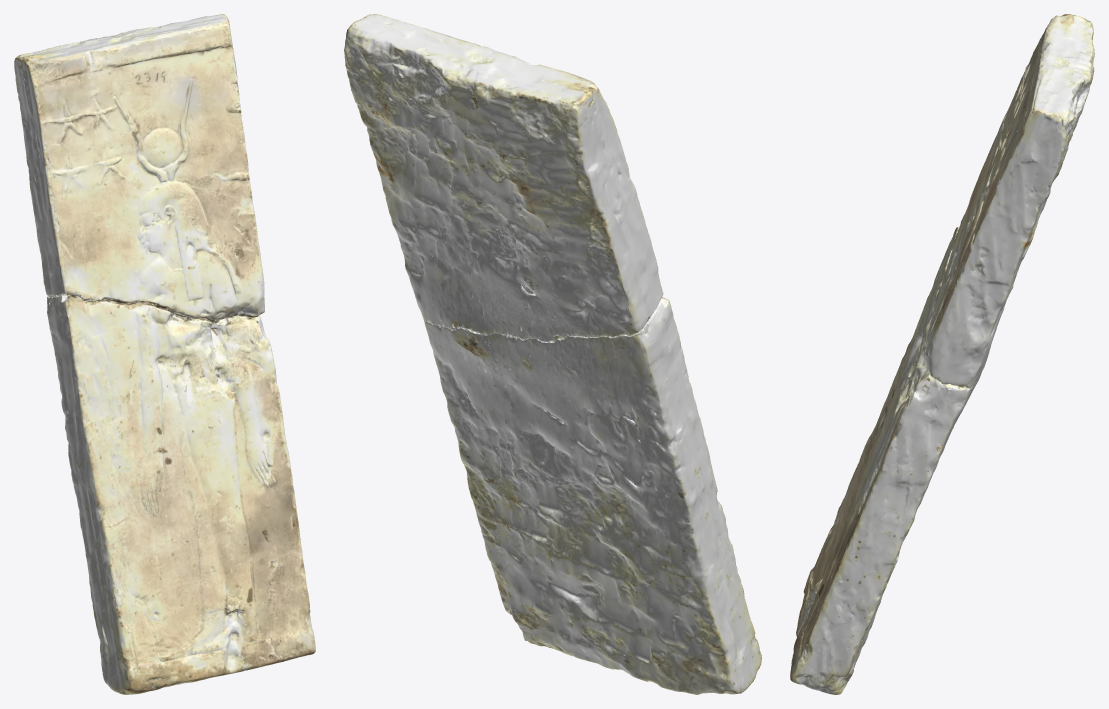
The model's file is preview.glb.
The picture shows the model from 3 angles, left to right: view 1: azimuth 30°, elevation 25°; view 2: azimuth 150°, elevation 25°; view 3: azimuth 270°, elevation 25°; orthographic projection. The views are drawn at different scales.
Visible parts, largest first — view 1: Object_2; view 2: Object_2; view 3: Object_2.
Part boxes in pixels (box(x1,y1,x2,y2)): Object_2: box(14, 14, 315, 694); Object_2: box(344, 14, 761, 694); Object_2: box(790, 14, 1094, 694).
Size of the model in its own units: 168 by 415 by 190.
Materials: 1 (1 with a texture image).
